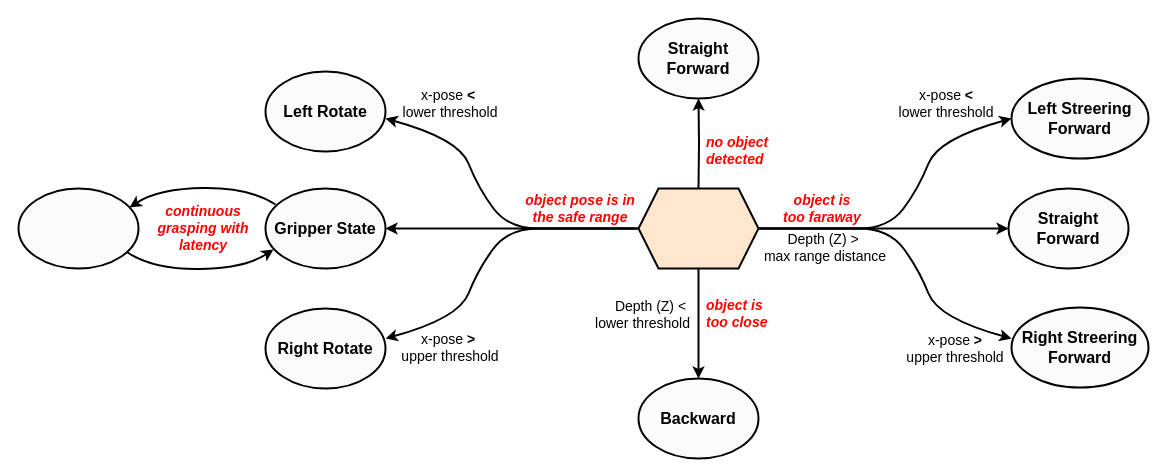
The diagram is 1166 pixels wide and 476 high, and some of its shapes have lost their labels. The shapes that lost their labels are listed below. From the top down, each one's box as (x1, y1, x2, y2) in pixels, then its label:
(17, 187, 139, 269): Grasping State
(637, 187, 759, 269): State Controller
